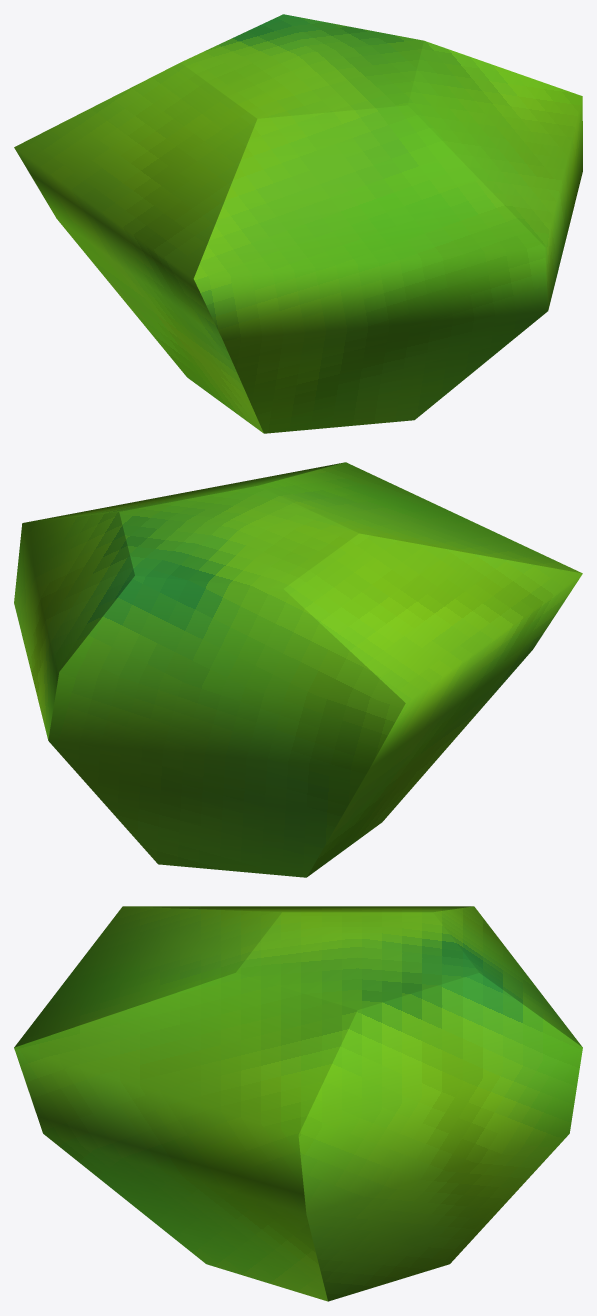
File: model_bush2_basic.fbx
The picture shows the model from 3 angles, top to bottom: view 1: azimuth 30°, elevation 25°; view 2: azimuth 150°, elevation 25°; view 3: azimuth 270°, elevation 25°; orthographic projection. The views are drawn at different scales.
Parts seen in each view (by area): view 1: SM_Bush2; view 2: SM_Bush2; view 3: SM_Bush2.
Boxes of the visible parts, bbox=[...] form: SM_Bush2: bbox=[14, 14, 582, 433]; SM_Bush2: bbox=[14, 462, 582, 877]; SM_Bush2: bbox=[14, 906, 582, 1301].
Bounding box in the file's own units: 4.26 × 2.66 × 4.44.
Materials: 1 (1 with a texture image).
